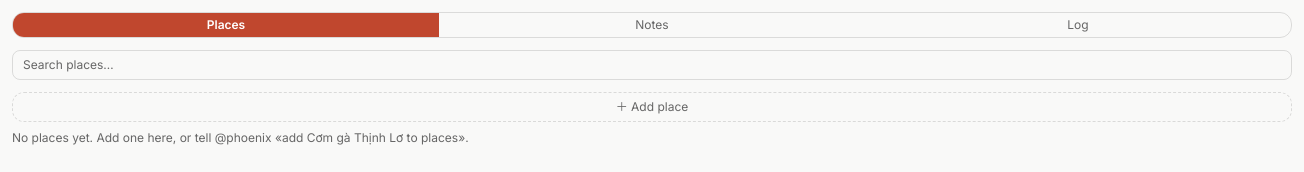
Test case: KnowledgePanel — empty states › says how each store gets filled rather than 'no data'
The width and height of the screenshot is (1304, 172).
Expected: the text "tell @phoenix «add Cơm gà Thịnh Lơ to places" is shown, [12,130,469,145]
Click the tab "Notes": (652,25) [439,13,865,37]
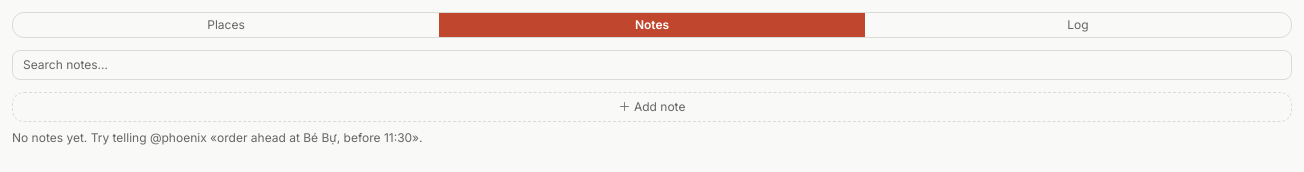
Expected: the text "order ahead at Bé Bự, before 11:30" is shown, [12,130,423,145]
Click the tab "Log": (1078,25) [865,13,1291,37]
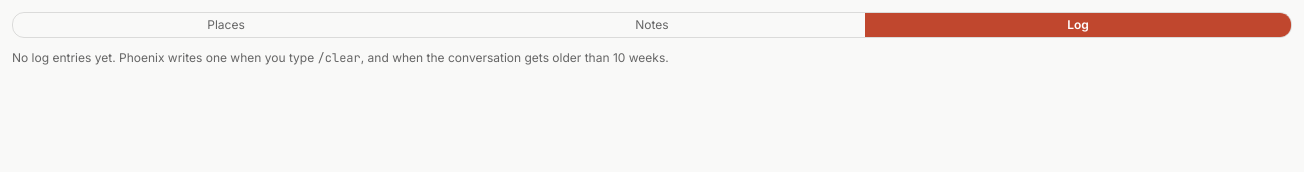
Expected: the text "older than 10 weeks" is shown, [361,50,669,65]
